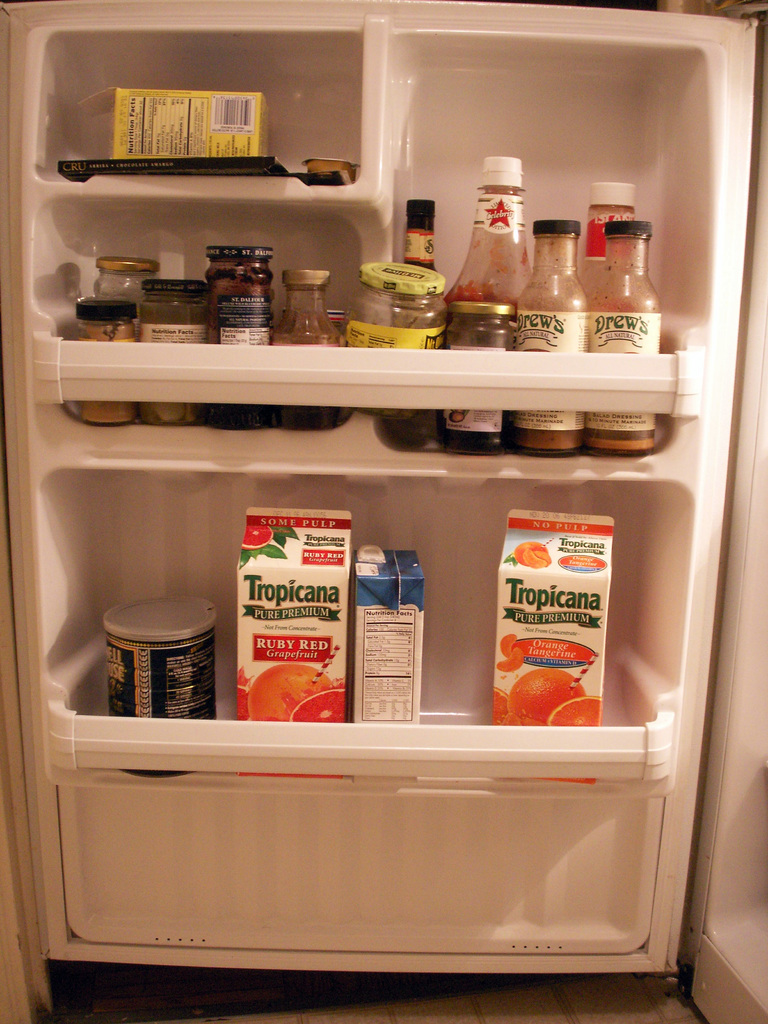refrigerator door: (27, 17, 701, 940)
